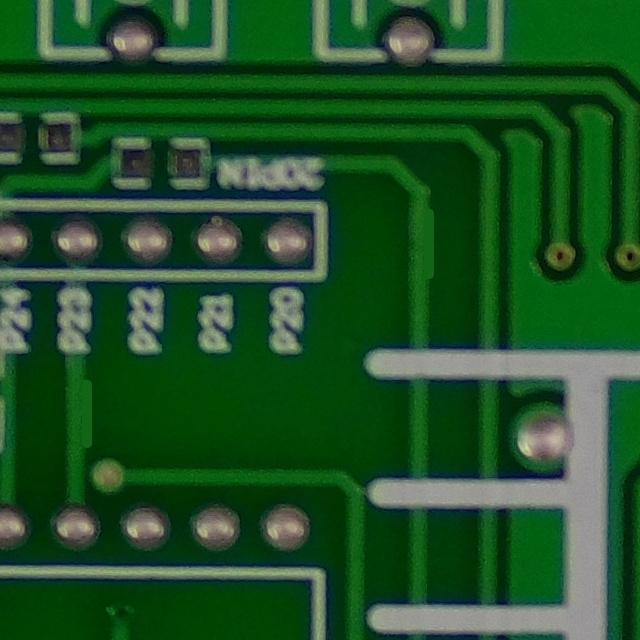spur: (402, 181, 461, 294), (62, 365, 121, 455)
